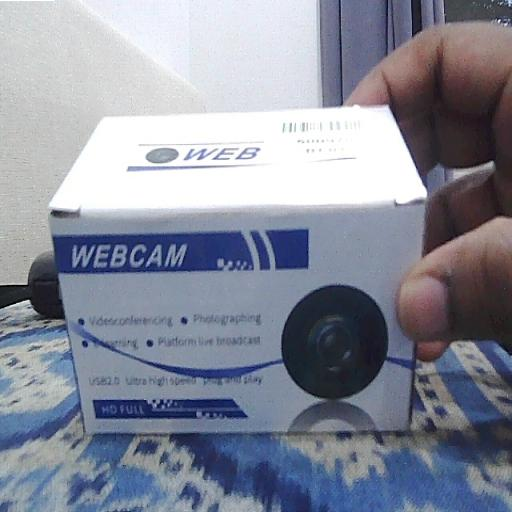webcam_box: (42, 100, 428, 440)
